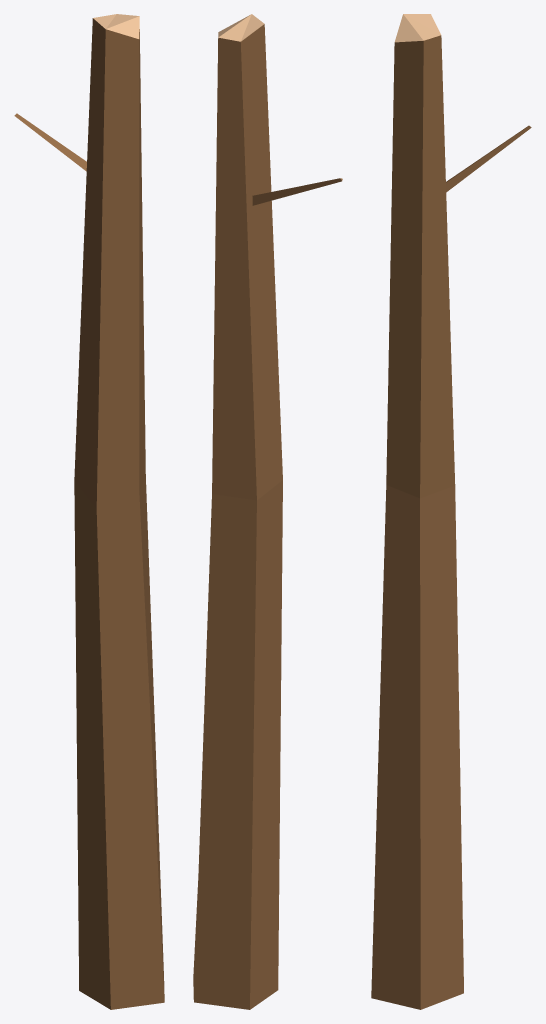
Rendered from Pine_Tree_NoLeaves_crk_l_04.fbx.
3 views of the same model, side by side, from view 1: azimuth 30°, elevation 25°; view 2: azimuth 210°, elevation 25°; view 3: azimuth 270°, elevation 25° (orthographic).
Parts seen in each view (by area): view 1: Pine_Tree_NoLeaves_crk_l_04; view 2: Pine_Tree_NoLeaves_crk_l_04; view 3: Pine_Tree_NoLeaves_crk_l_04.
Boxes of the visible parts, x1,y1,x2,y2 form: Pine_Tree_NoLeaves_crk_l_04: [14, 14, 164, 1009]; Pine_Tree_NoLeaves_crk_l_04: [193, 14, 342, 1009]; Pine_Tree_NoLeaves_crk_l_04: [371, 14, 531, 1009].
Size of the model in its own units: 77.14 by 753 by 114.
